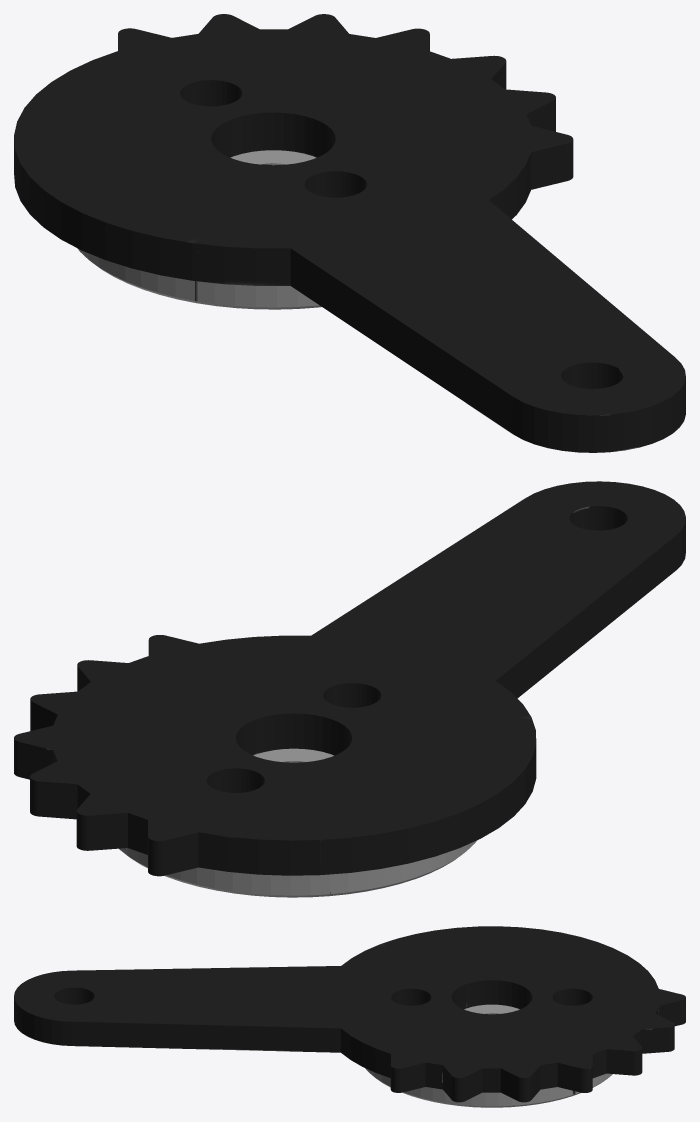
3 views of the same model, one above another, from view 1: azimuth 30°, elevation 25°; view 2: azimuth 150°, elevation 25°; view 3: azimuth 270°, elevation 25° (orthographic). The views are drawn at different scales.
Visible parts, largest first — view 1: link6_1; view 2: link6_1; view 3: link6_1.
Boxes of the visible parts, box(x1,y1,x2,y2) form: link6_1: box(14, 14, 685, 452); link6_1: box(14, 481, 685, 897); link6_1: box(14, 926, 685, 1107).
Size of the model in its own units: 0.0267 by 0.05 by 0.0065.
1 material, 1 textured.
